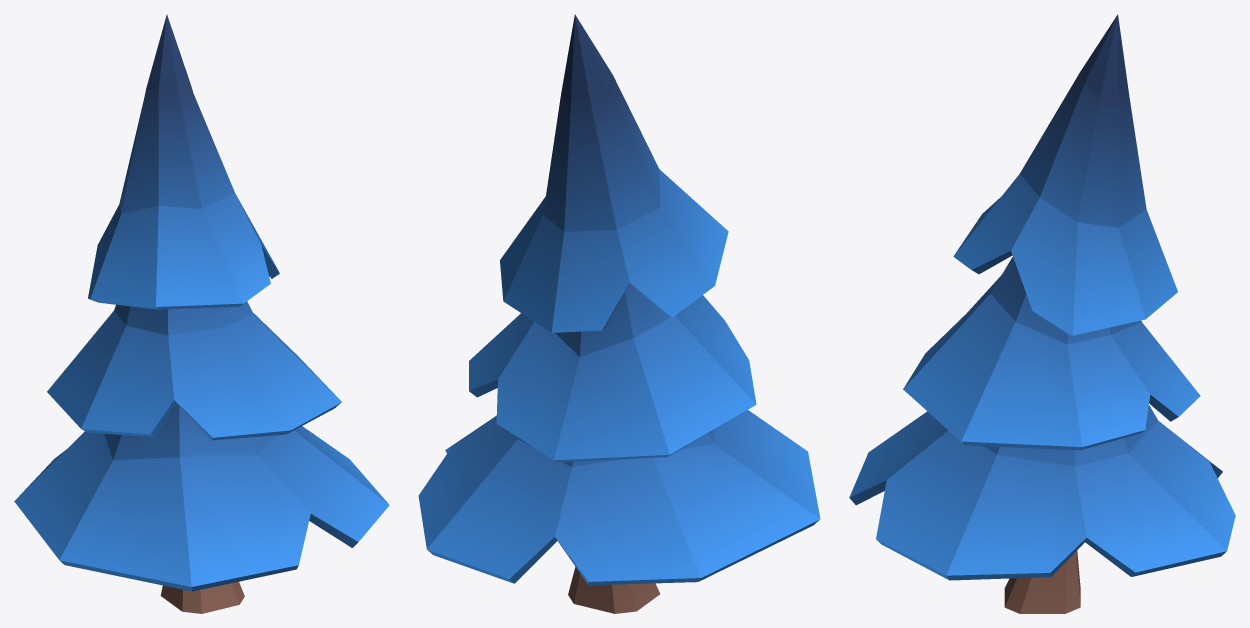
Rendered from BluePine3.fbx.
3 views of the same model, side by side, from view 1: azimuth 30°, elevation 25°; view 2: azimuth 150°, elevation 25°; view 3: azimuth 270°, elevation 25° (orthographic). The views are drawn at different scales.
Parts seen in each view (by area): view 1: BluePine3; view 2: BluePine3; view 3: BluePine3.
Boxes of the visible parts, x1,y1,x2,y2 form: BluePine3: [14, 14, 389, 613]; BluePine3: [418, 14, 820, 613]; BluePine3: [849, 14, 1235, 613].
Size of the model in its own units: 366 by 613 by 368.
